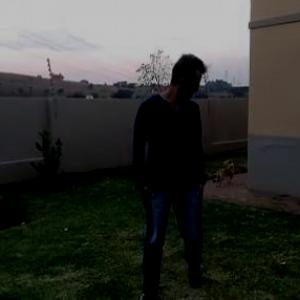follow: (124, 47, 212, 299)
